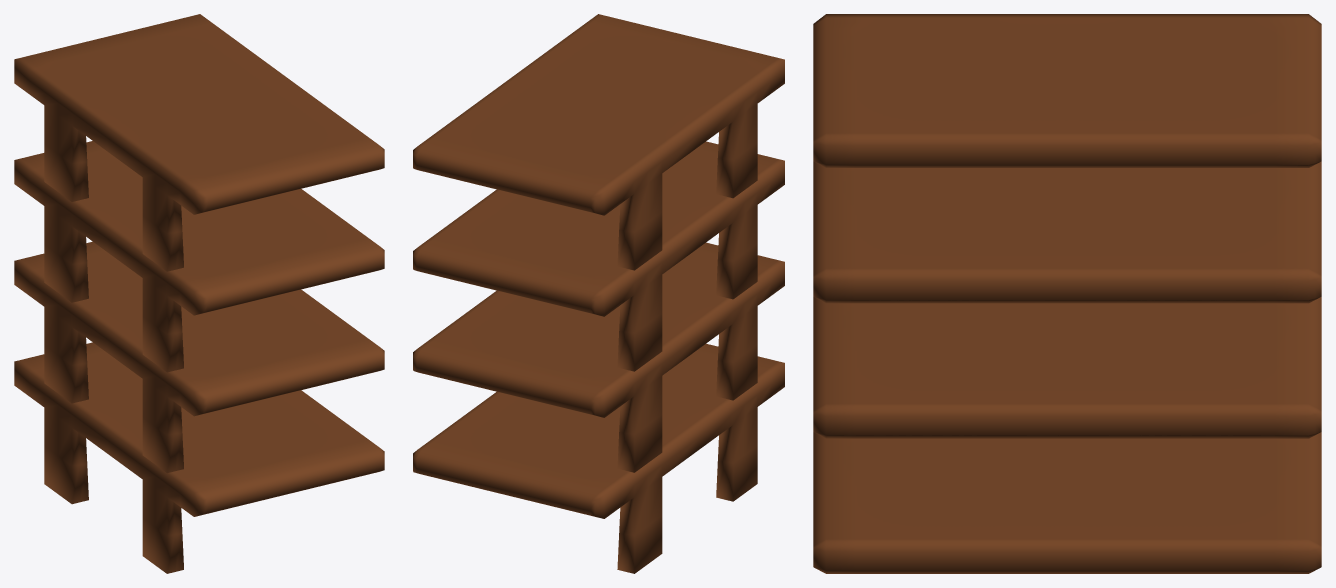
File: BookshelfV2.fbx
The picture shows the model from 3 angles, left to right: view 1: azimuth 30°, elevation 25°; view 2: azimuth 150°, elevation 25°; view 3: azimuth 270°, elevation 25°; orthographic projection. The views are drawn at different scales.
Parts seen in each view (by area): view 1: Plane; view 2: Plane; view 3: Plane.
Part boxes in pixels (<box>): Plane: <box>14,14,384,573</box>; Plane: <box>413,14,784,573</box>; Plane: <box>813,14,1321,573</box>.
Bounding box in the file's own units: 200 × 404 × 344.
Materials: 1 (1 with a texture image).
